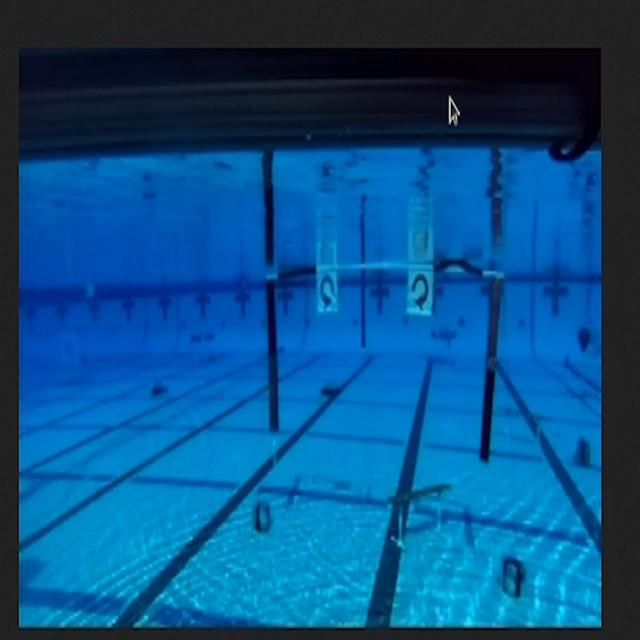Gate: (262, 263, 507, 466)
